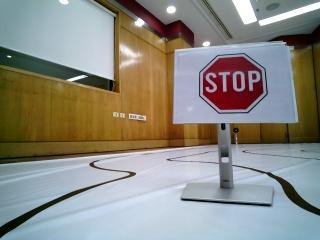stop: (177, 54, 279, 116)
